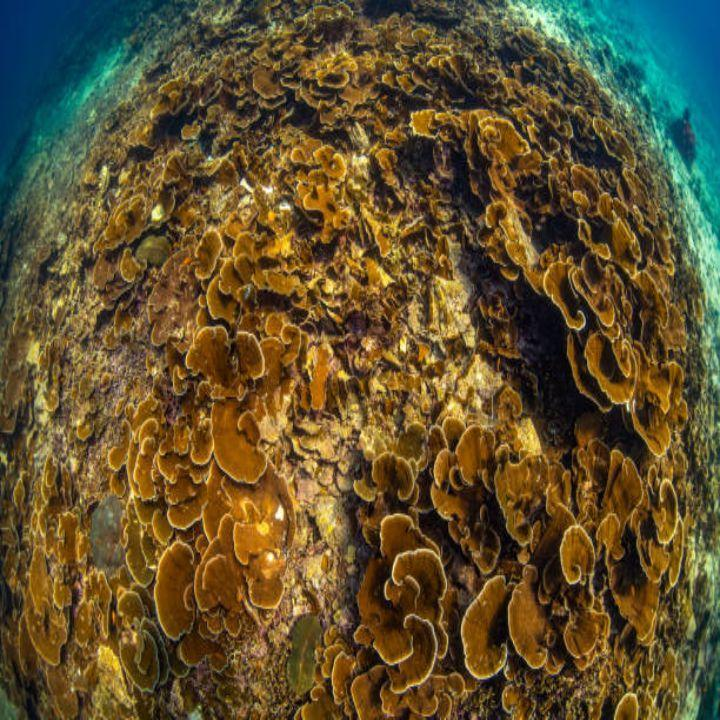Healthy Coral: (92, 142, 682, 639)
